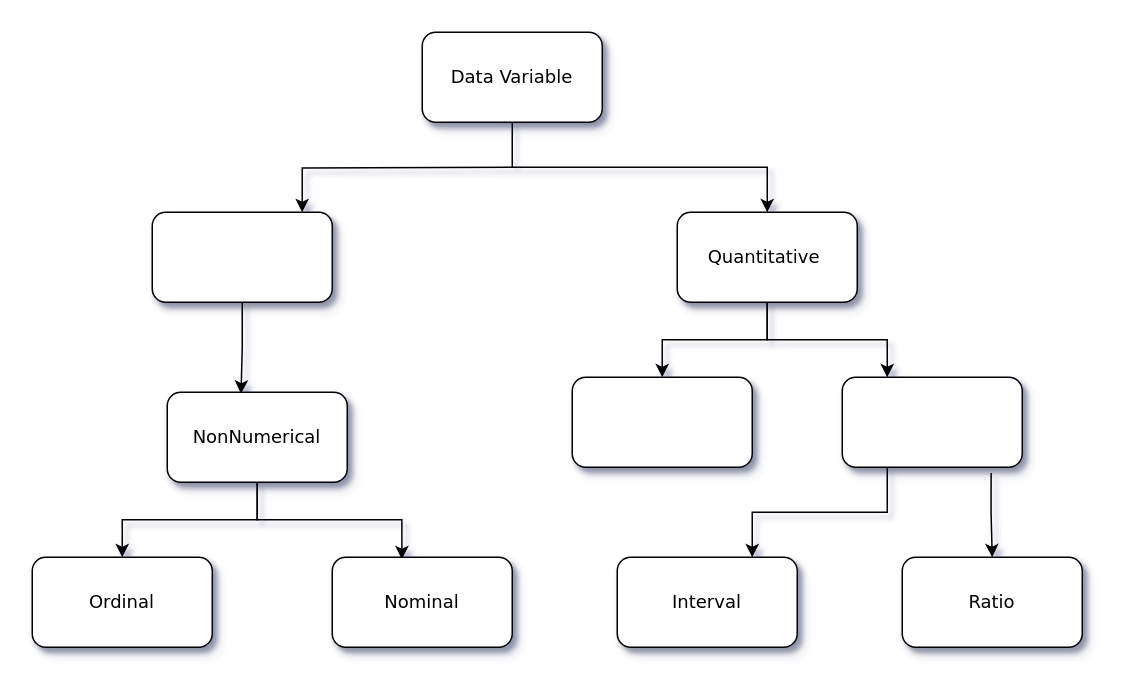
This 1127x693 diagram has some shape labels left out. The shapes that lost their labels are listed below. From the top down, each one's centre as x and y in pixels, then its label:
At pixel 243 259: "Qualitative".
At pixel 663 424: "Discrete".
At pixel 933 424: "Continious".
